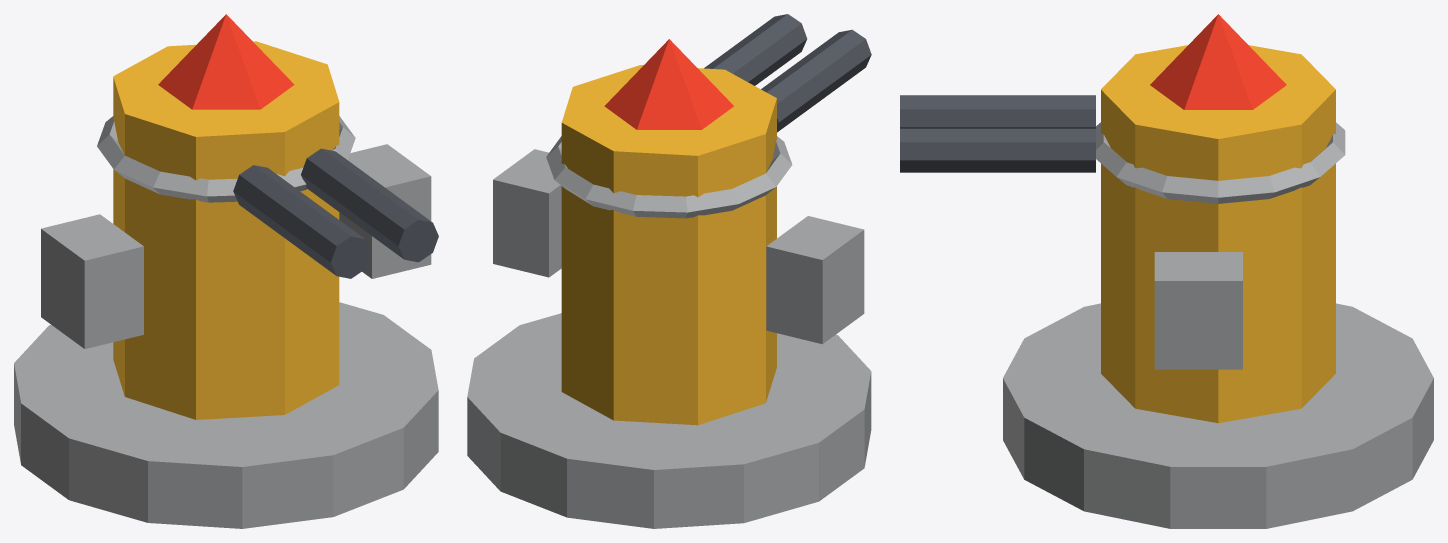
The model's file is TD_RapidTower_T1.fbx.
The picture shows the model from 3 angles, left to right: view 1: azimuth 30°, elevation 25°; view 2: azimuth 150°, elevation 25°; view 3: azimuth 270°, elevation 25°; orthographic projection. The views are drawn at different scales.
Parts seen in each view (by area): view 1: TD_RapidTower_T1_Body, TD_RapidTower_T1_Base, TD_RapidTower_T1_AmmoBox_Left, TD_RapidTower_T1_Accent, TD_RapidTower_T1_Barrel_Left, TD_RapidTower_T1_Barrel_Right, TD_RapidTower_T1_AmmoBox_Right, TD_RapidTower_T1_TurretRing; view 2: TD_RapidTower_T1_Body, TD_RapidTower_T1_Base, TD_RapidTower_T1_AmmoBox_Left, TD_RapidTower_T1_AmmoBox_Right, TD_RapidTower_T1_Accent, TD_RapidTower_T1_TurretRing, TD_RapidTower_T1_Barrel_Left, TD_RapidTower_T1_Barrel_Right; view 3: TD_RapidTower_T1_Body, TD_RapidTower_T1_Base, TD_RapidTower_T1_AmmoBox_Right, TD_RapidTower_T1_Barrel_Right, TD_RapidTower_T1_Accent, TD_RapidTower_T1_Barrel_Left, TD_RapidTower_T1_TurretRing.
Part boxes in pixels (<box>): TD_RapidTower_T1_Body: <box>113,41,339,419</box>; TD_RapidTower_T1_Base: <box>14,302,438,528</box>; TD_RapidTower_T1_AmmoBox_Left: <box>41,214,143,348</box>; TD_RapidTower_T1_Accent: <box>158,14,294,109</box>; TD_RapidTower_T1_Barrel_Left: <box>233,165,371,278</box>; TD_RapidTower_T1_Barrel_Right: <box>301,148,438,262</box>; TD_RapidTower_T1_AmmoBox_Right: <box>339,144,431,278</box>; TD_RapidTower_T1_TurretRing: <box>97,116,355,202</box>; TD_RapidTower_T1_Body: <box>561,65,776,425</box>; TD_RapidTower_T1_Base: <box>467,313,871,528</box>; TD_RapidTower_T1_AmmoBox_Left: <box>766,216,864,344</box>; TD_RapidTower_T1_AmmoBox_Right: <box>493,149,561,277</box>; TD_RapidTower_T1_Accent: <box>604,39,733,129</box>; TD_RapidTower_T1_TurretRing: <box>546,136,792,218</box>; TD_RapidTower_T1_Barrel_Left: <box>761,29,871,132</box>; TD_RapidTower_T1_Barrel_Right: <box>704,14,807,85</box>; TD_RapidTower_T1_Body: <box>1101,45,1335,423</box>; TD_RapidTower_T1_Base: <box>1003,303,1433,528</box>; TD_RapidTower_T1_AmmoBox_Right: <box>1154,252,1242,369</box>; TD_RapidTower_T1_Barrel_Right: <box>900,128,1095,172</box>; TD_RapidTower_T1_Accent: <box>1150,14,1286,109</box>; TD_RapidTower_T1_Barrel_Left: <box>900,95,1095,128</box>; TD_RapidTower_T1_TurretRing: <box>1096,122,1345,203</box>.
Bounding box in the file's own units: 0.8579 × 0.96 × 1.09.
